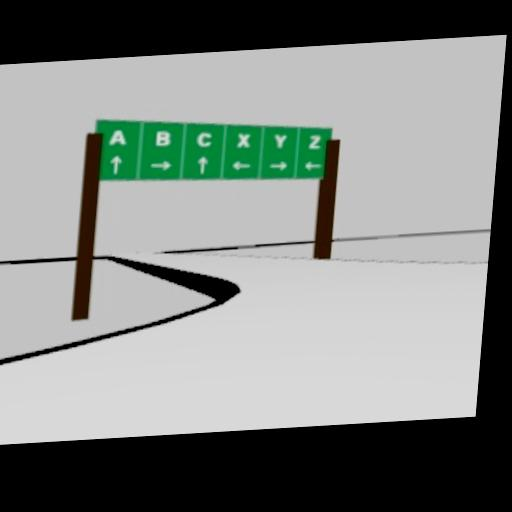A: (107, 128, 125, 144)
B: (155, 130, 171, 146)
C: (196, 130, 212, 146)
Left: (231, 158, 252, 169), (304, 159, 322, 170)
Right: (149, 160, 172, 171), (268, 160, 288, 171)
Straight: (108, 154, 122, 174), (197, 154, 208, 174)
X: (236, 132, 251, 148)
Y: (272, 133, 287, 149)
Z: (307, 134, 320, 149)
